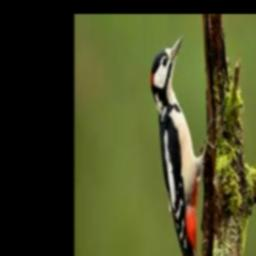Woodpecker: (151, 34, 217, 256)
